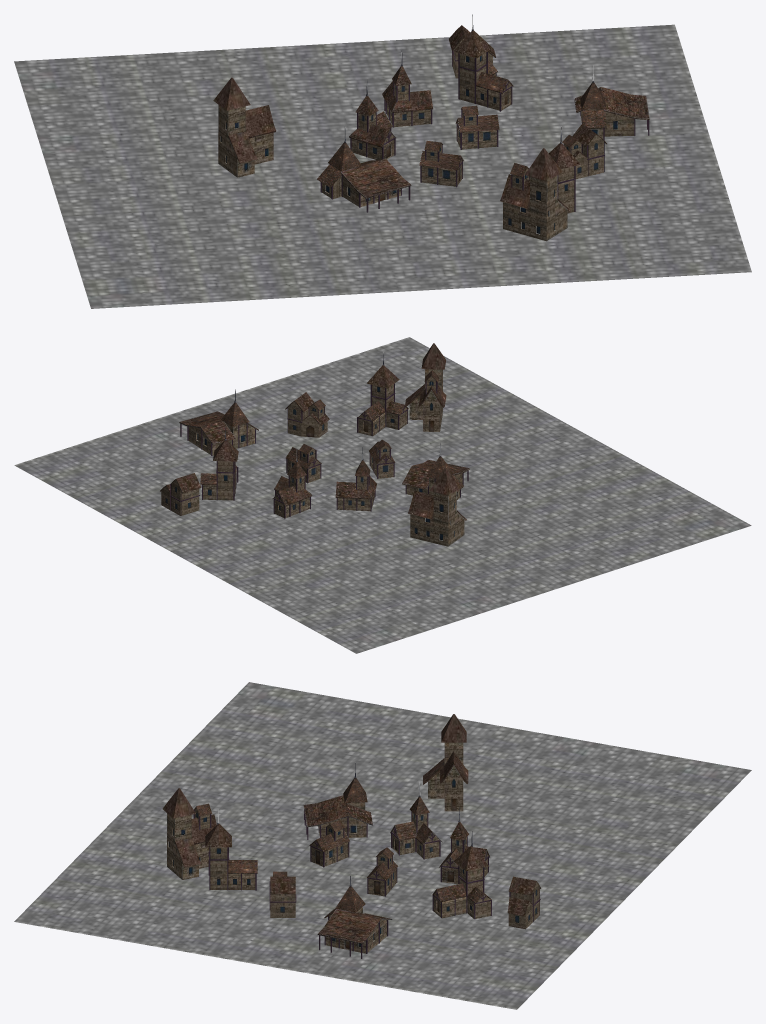
File: houses_blender_game.glb
3 renders of one model, top to bottom at view 1: azimuth 30°, elevation 25°; view 2: azimuth 150°, elevation 25°; view 3: azimuth 270°, elevation 25°, orthographic. The views are drawn at different scales.
Parts seen in each view (by area): view 1: Object_2, Object_23, Object_12, Object_7, Object_14, Object_20, Object_18, Object_6, Object_19, Object_17, Object_9, Object_3 (+4 smaller); view 2: Object_2, Object_23, Object_12, Object_20, Object_14, Object_7, Object_6, Object_18, Object_17, Object_19, Object_9, Object_11; view 3: Object_2, Object_23, Object_12, Object_7, Object_20, Object_14, Object_6, Object_17, Object_19, Object_11, Object_9, Object_18 (+1 smaller).
Boxes of the visible parts, x1,y1,x2,y2 form: Object_2: [14, 24, 751, 308]; Object_23: [213, 77, 570, 241]; Object_12: [453, 30, 580, 213]; Object_7: [340, 87, 649, 198]; Object_14: [320, 50, 649, 212]; Object_20: [449, 25, 606, 179]; Object_18: [349, 81, 433, 147]; Object_6: [322, 109, 634, 206]; Object_19: [421, 122, 496, 186]; Object_17: [351, 101, 430, 159]; Object_9: [328, 82, 606, 171]; Object_3: [419, 114, 499, 170]; Object_2: [14, 337, 751, 653]; Object_23: [405, 343, 466, 546]; Object_12: [202, 365, 407, 500]; Object_20: [160, 392, 329, 515]; Object_14: [170, 383, 468, 518]; Object_7: [179, 411, 469, 489]; Object_6: [188, 422, 462, 499]; Object_18: [272, 476, 376, 506]; Object_17: [274, 490, 374, 517]; Object_19: [287, 454, 393, 482]; Object_9: [221, 402, 453, 478]; Object_11: [200, 401, 408, 484]; Object_2: [14, 682, 751, 1009]; Object_23: [162, 714, 468, 879]; Object_12: [205, 824, 490, 918]; Object_7: [303, 795, 392, 944]; Object_20: [270, 876, 540, 929]; Object_14: [208, 810, 540, 958]; Object_6: [318, 802, 386, 953]; Object_17: [392, 829, 487, 884]; Object_19: [311, 841, 396, 896]; Object_11: [228, 860, 491, 903]; Object_9: [335, 778, 367, 912]; Object_18: [390, 821, 490, 867].
Size of the model in its own units: 84.21 by 10.05 by 80.1.
Materials: 22 (22 with a texture image).
